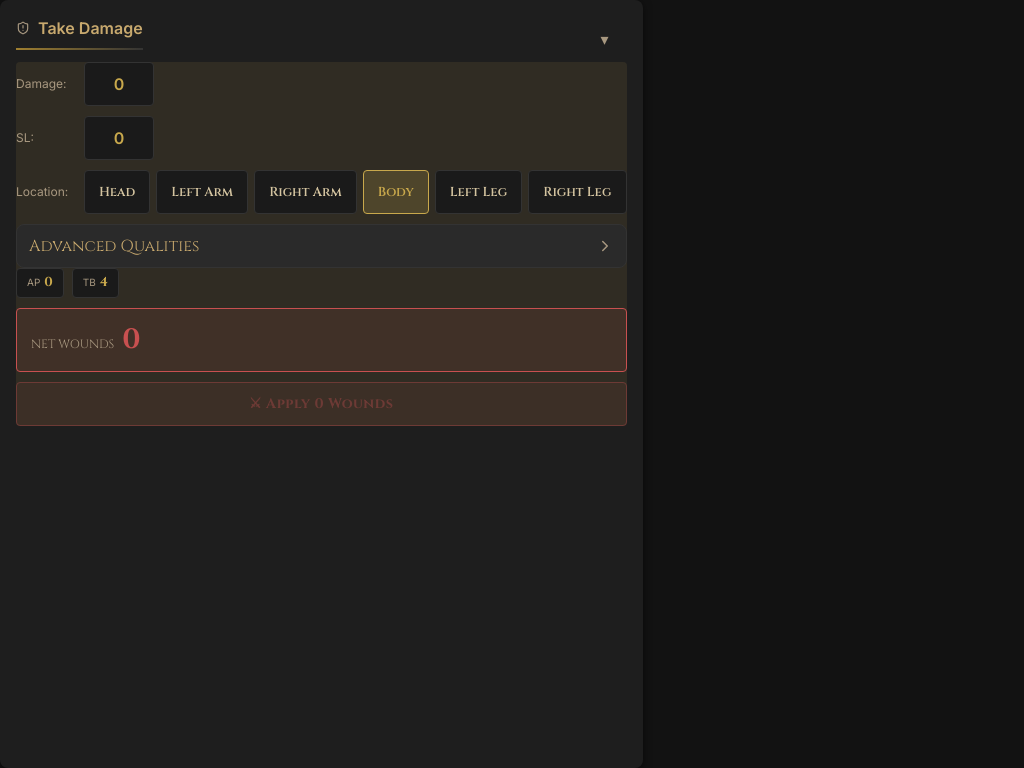
Test case: Integration: TakeDamagePanel Critical Wound flow › Critical wound notification content verification › displays a descriptive explanation for -20 modifier
The image size is (1024, 768).
Replace the text in the number field named "Incoming damage" with "15": (119, 84) [84, 62, 154, 106]
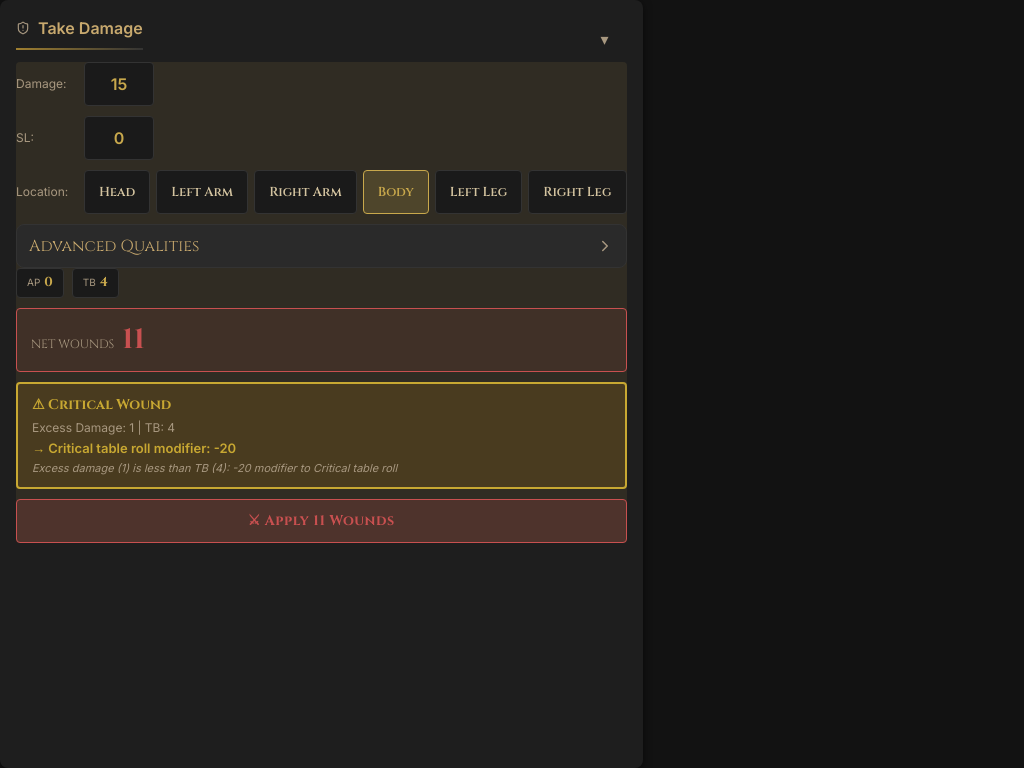
Expected: the message with test id "critical-wound-notification" shows "less than TB", [32, 461, 397, 475]
